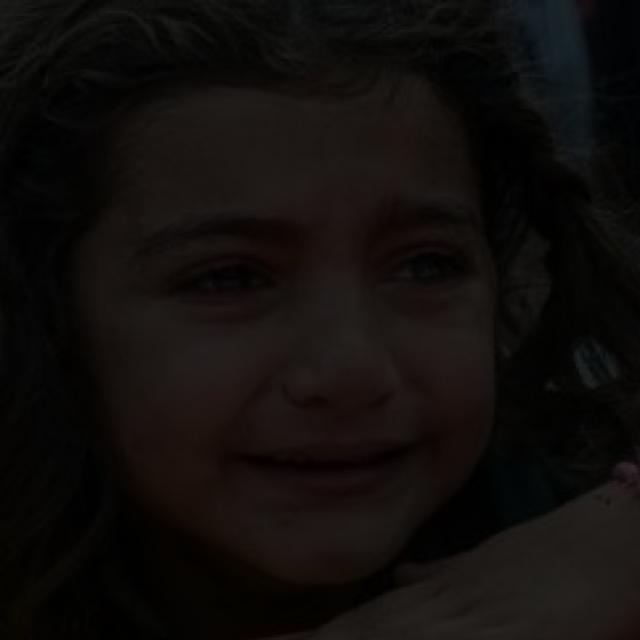Sad: (107, 123, 500, 587)
